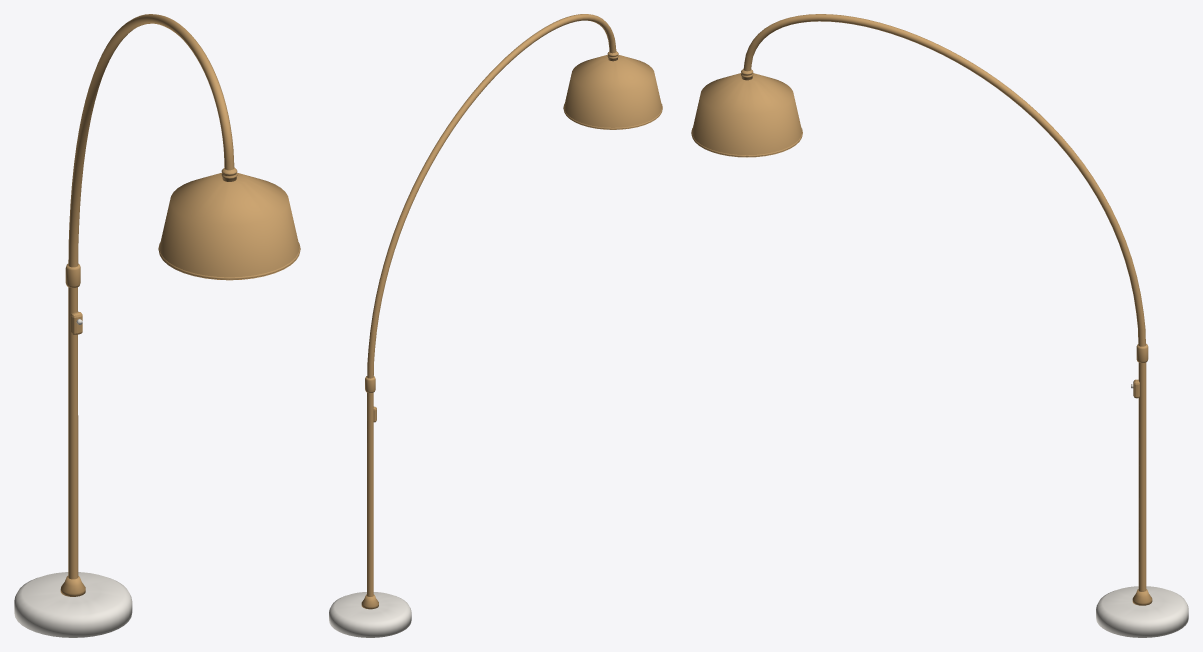
File: lampFloorArc.glb
The picture shows the model from 3 angles, left to right: view 1: azimuth 30°, elevation 25°; view 2: azimuth 150°, elevation 25°; view 3: azimuth 270°, elevation 25°; orthographic projection. The views are drawn at different scales.
Parts seen in each view (by area): view 1: lampFloorArc; view 2: lampFloorArc; view 3: lampFloorArc.
Boxes of the visible parts, x1=… form: lampFloorArc: x1=14, y1=14, x2=300, y2=637; lampFloorArc: x1=329, y1=14, x2=662, y2=637; lampFloorArc: x1=691, y1=14, x2=1188, y2=637.
Bounding box in the file's own units: 0.611 × 2.05 × 1.61.
